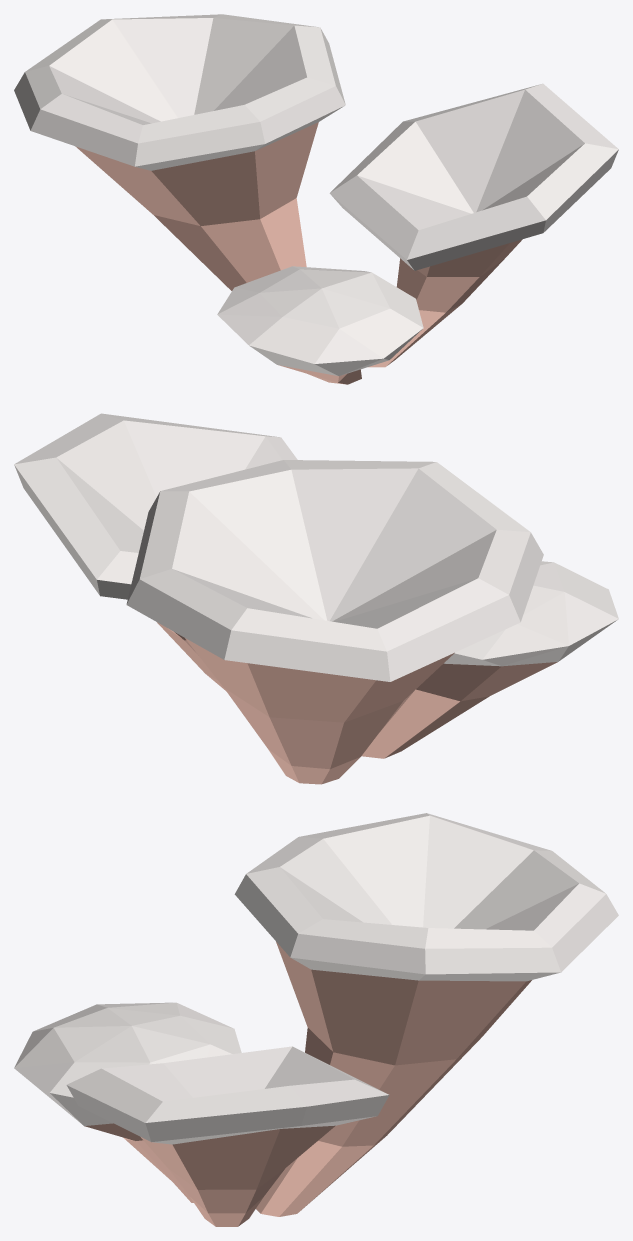
Rendered from mushroom_009.fbx.
The picture shows the model from 3 angles, top to bottom: view 1: azimuth 30°, elevation 25°; view 2: azimuth 150°, elevation 25°; view 3: azimuth 270°, elevation 25°; orthographic projection. The views are drawn at different scales.
Parts seen in each view (by area): view 1: mushroom.009; view 2: mushroom.009; view 3: mushroom.009.
Part boxes in pixels (box(x1,y1,x2,y2)): mushroom.009: box(14, 14, 618, 384); mushroom.009: box(14, 413, 618, 784); mushroom.009: box(14, 813, 618, 1226).
Bounding box in the file's own units: 1090 × 600 × 1111.
1 material, 1 textured.
